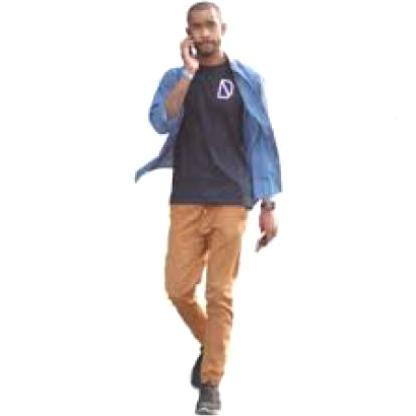person: (148, 0, 266, 414)
